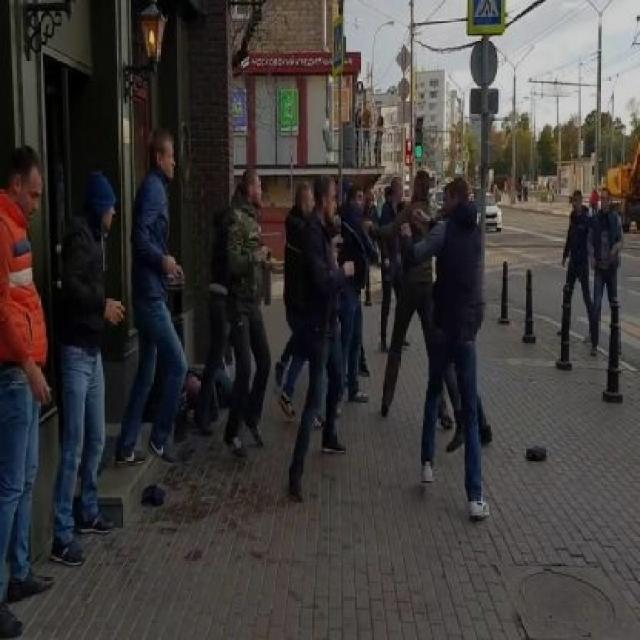fight: (275, 171, 500, 523)
non-fight: (0, 140, 63, 638), (123, 124, 203, 464), (212, 163, 285, 460)
